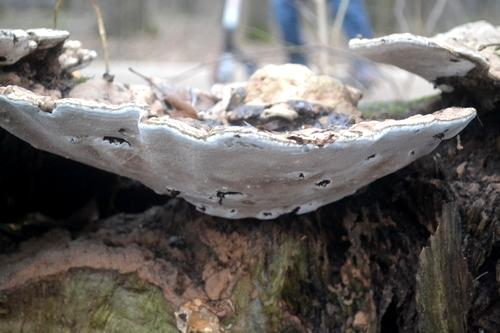Ganoderma - Fruit Body: (0, 16, 500, 223)
